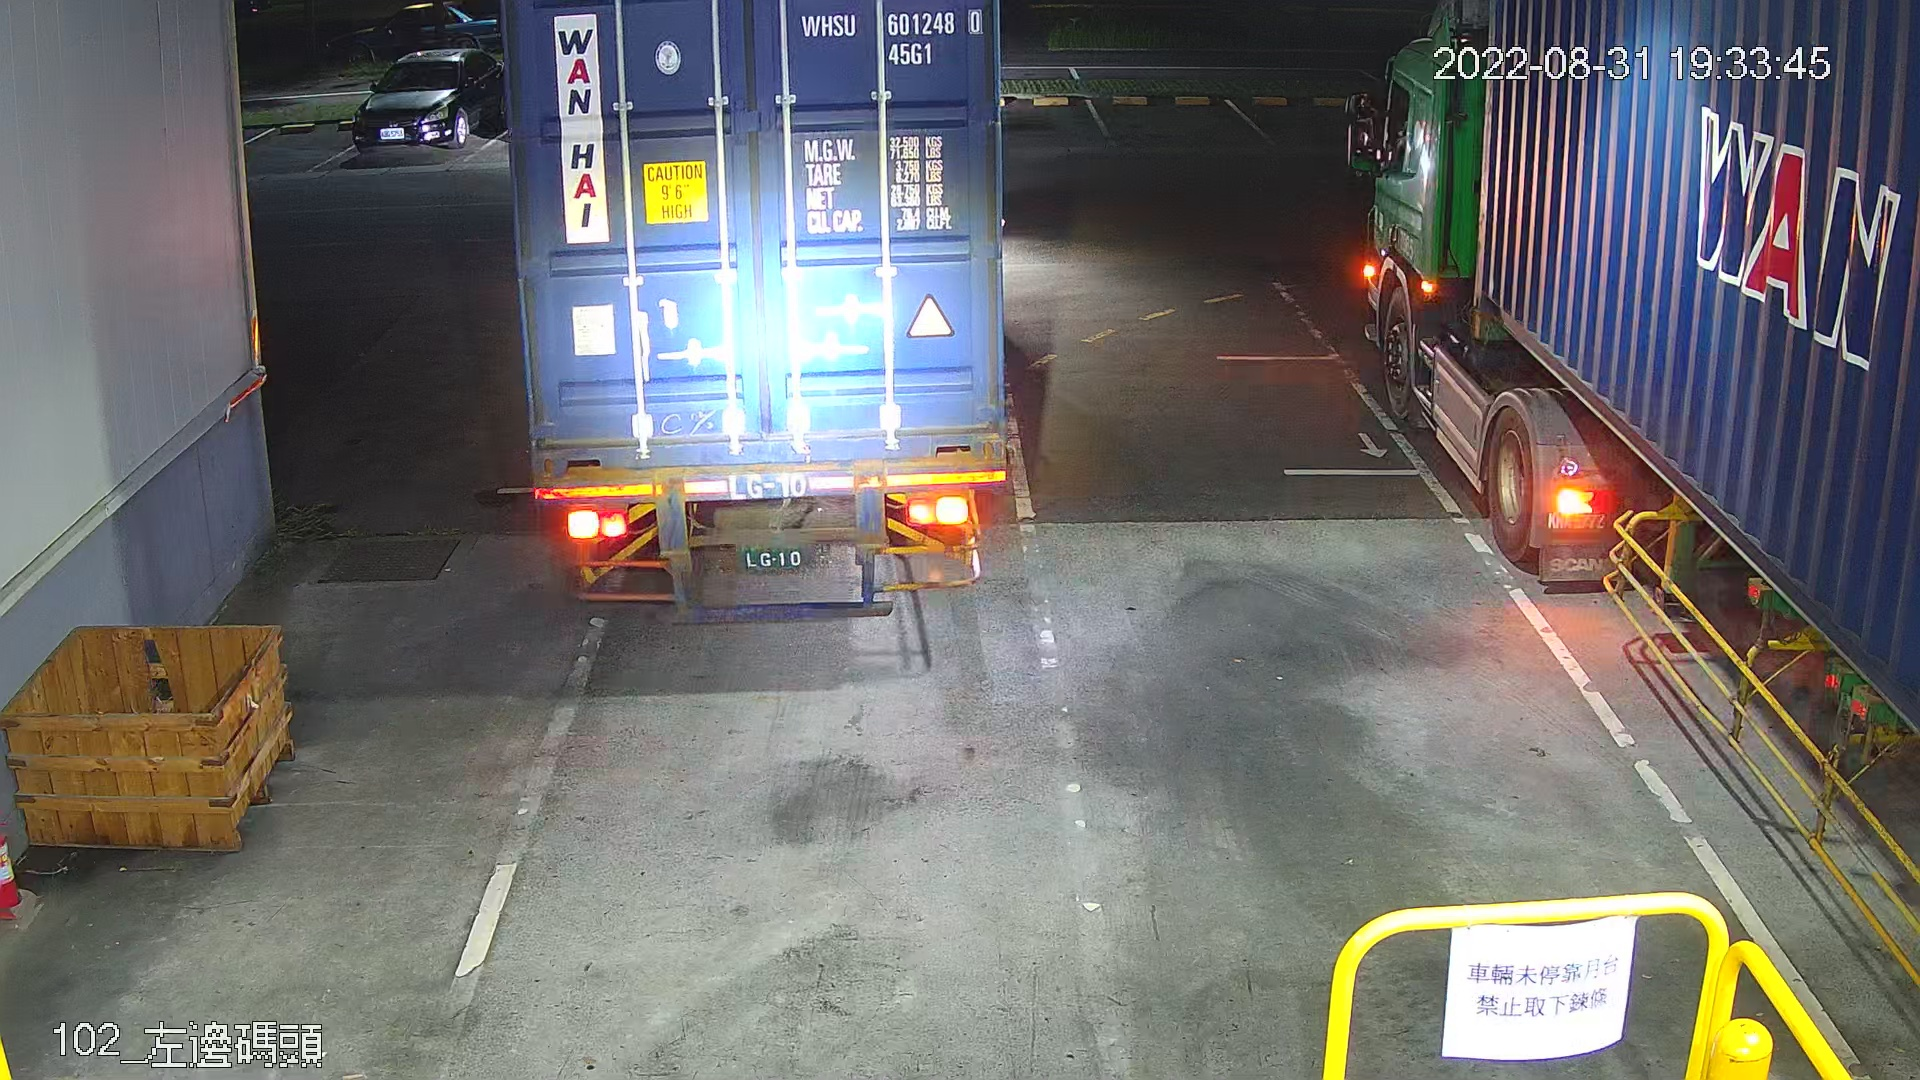container: (795, 4, 989, 73)
